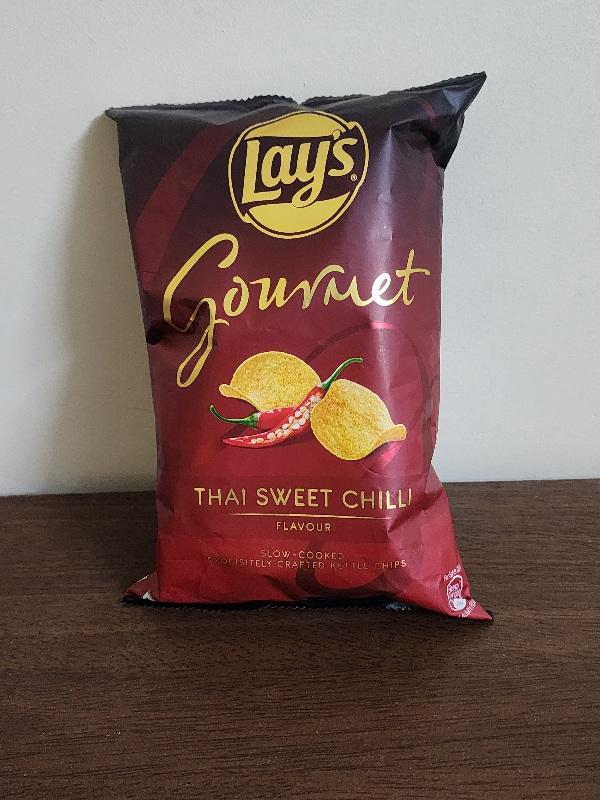Lays: (101, 67, 486, 622)
